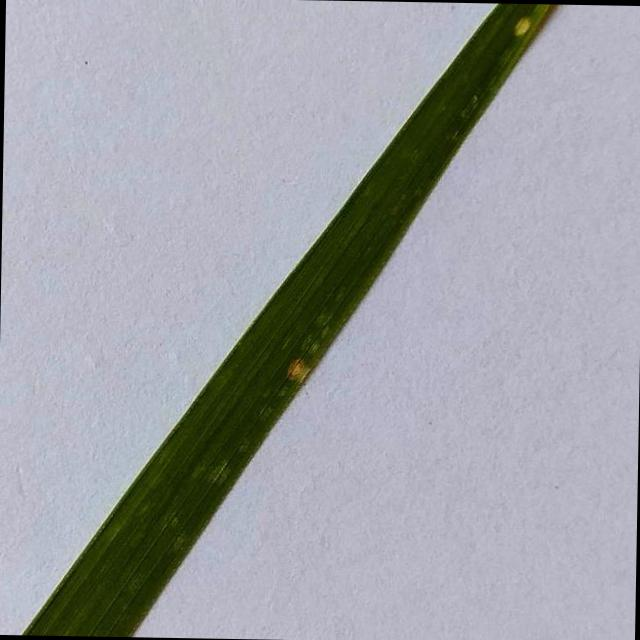Rice_Blast: (275, 336, 321, 389), (508, 10, 534, 38)
